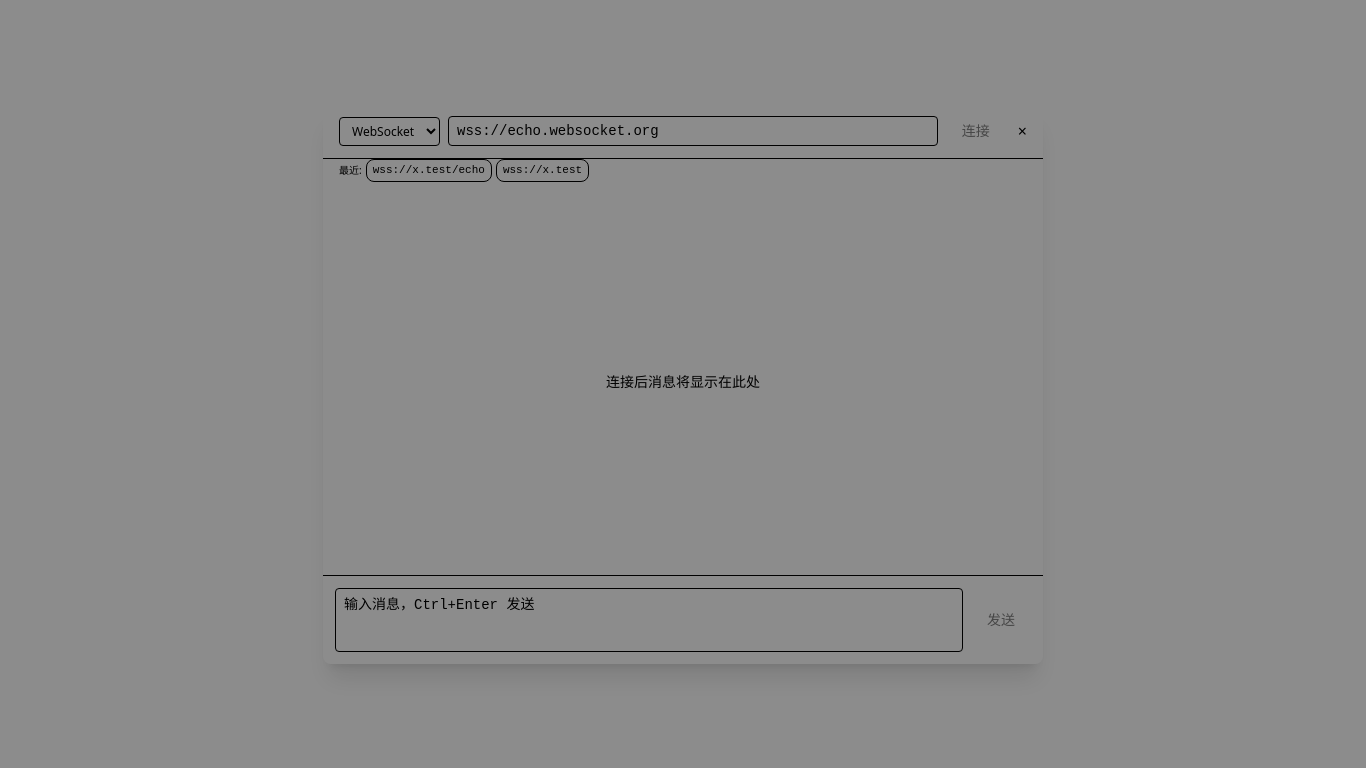
Test: WsPanel connect lifecycle › filters inbound messages by sessionId and marks close as disconnected
Type "wss://x.test/echo" into the field with placeholder "wss://echo.websocket.org".
click(693, 131); type("wss://x.test/echo")  # box [448,116,938,146]
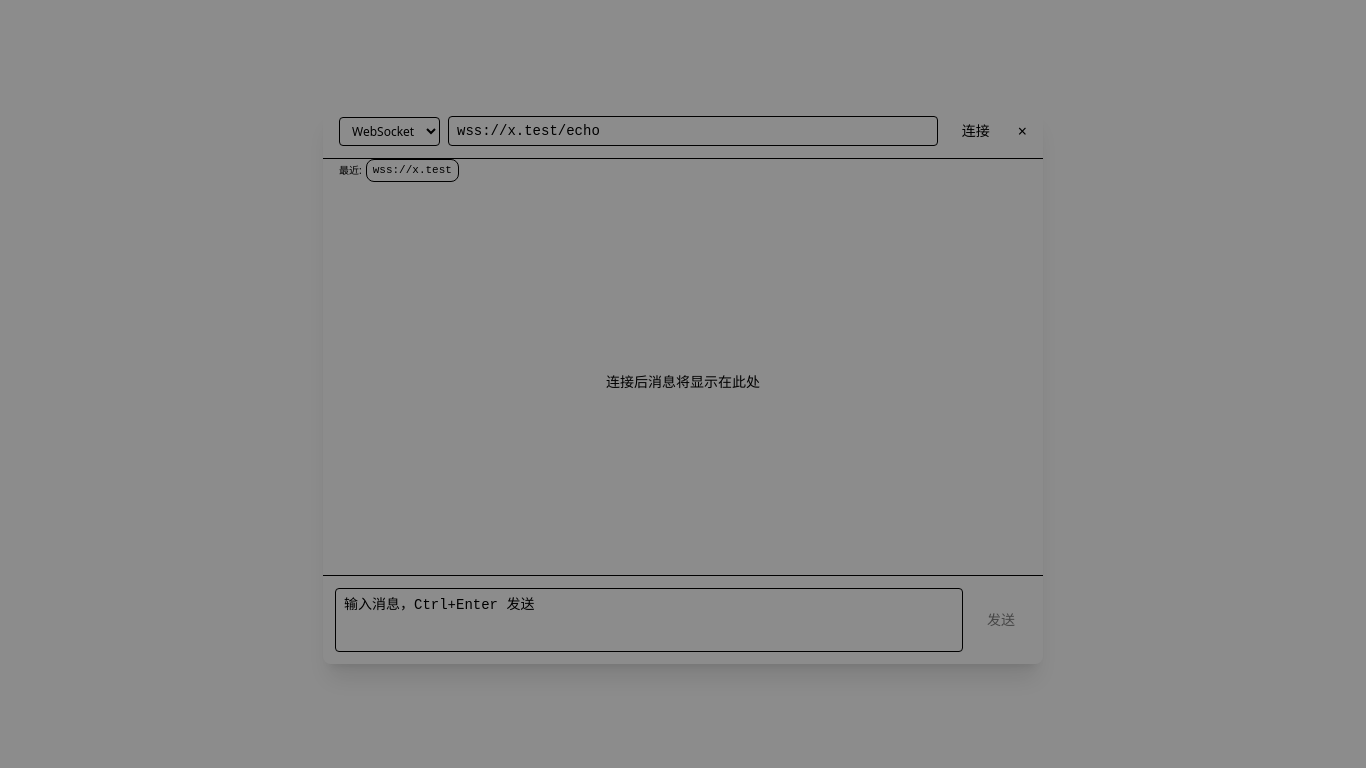
Click the button "连接".
click(976, 131)  # box [946,117,1006,145]
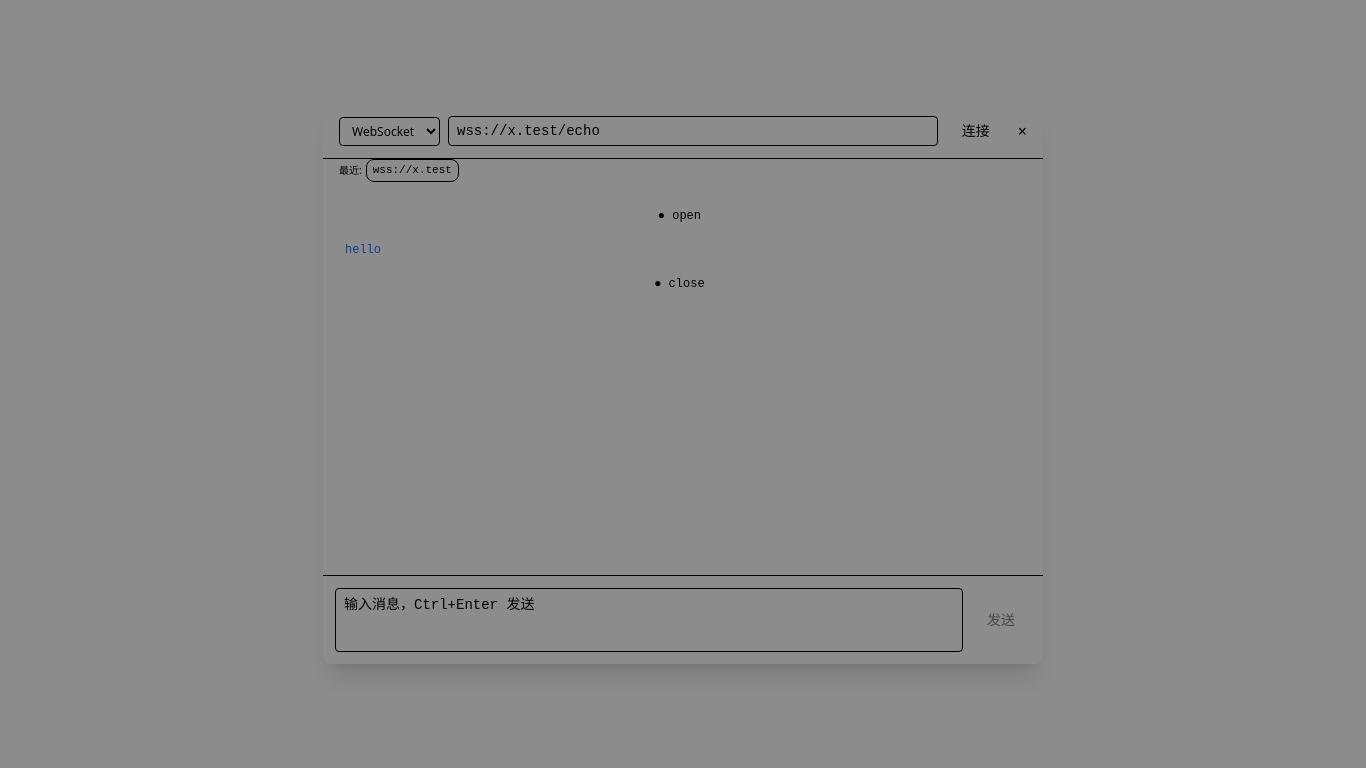
Now the text "hello" is shown, box [345,242,381,256]
